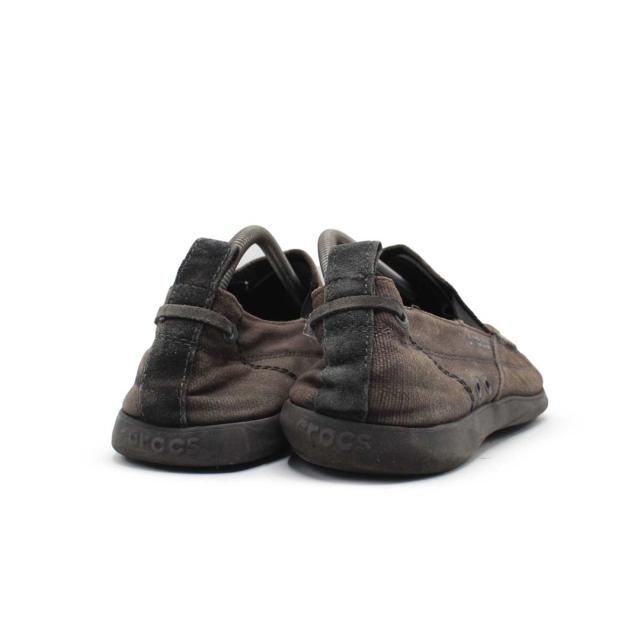heel: (290, 239, 477, 431), (118, 236, 301, 422)
midsole: (281, 394, 547, 472), (108, 406, 284, 466)
